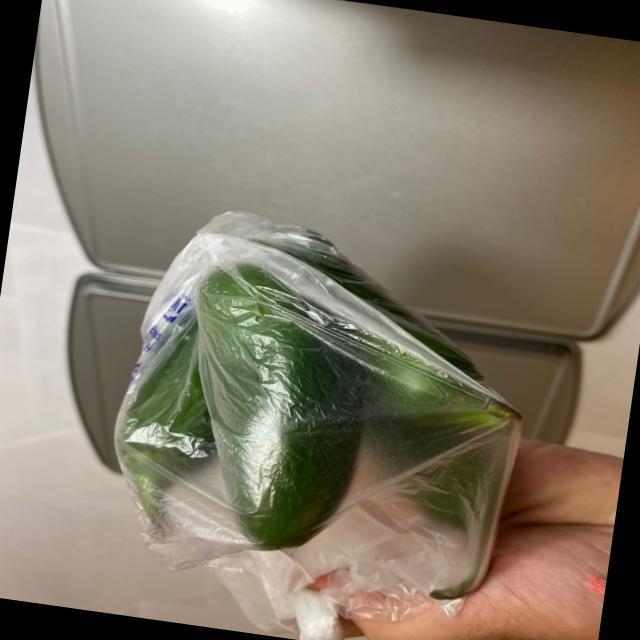chilli: (86, 198, 562, 626)
